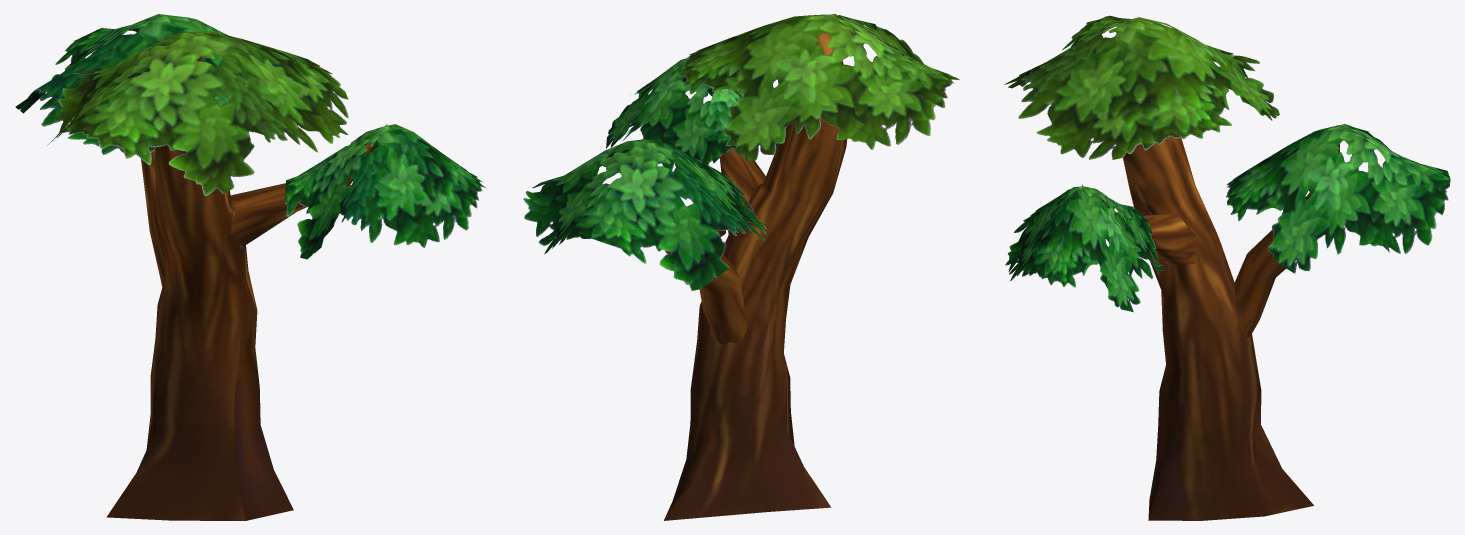
Rendered from tree_1.FBX.
3 views of the same model, side by side, from view 1: azimuth 30°, elevation 25°; view 2: azimuth 150°, elevation 25°; view 3: azimuth 270°, elevation 25° (orthographic). The views are drawn at different scales.
Visible parts, largest first — view 1: tree_1; view 2: tree_1; view 3: tree_1.
Part boxes in pixels (left/top/right/bottom): tree_1: left=15, top=14, right=485, bottom=520; tree_1: left=523, top=14, right=959, bottom=520; tree_1: left=1004, top=15, right=1450, bottom=520.
Size of the model in its own units: 156 by 187 by 170.
